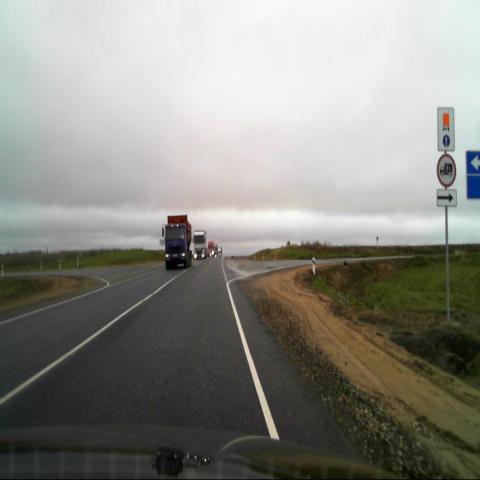3_4: (438, 153, 456, 186)
4_8_2: (438, 107, 454, 150)
8_3_1: (437, 189, 457, 207)
